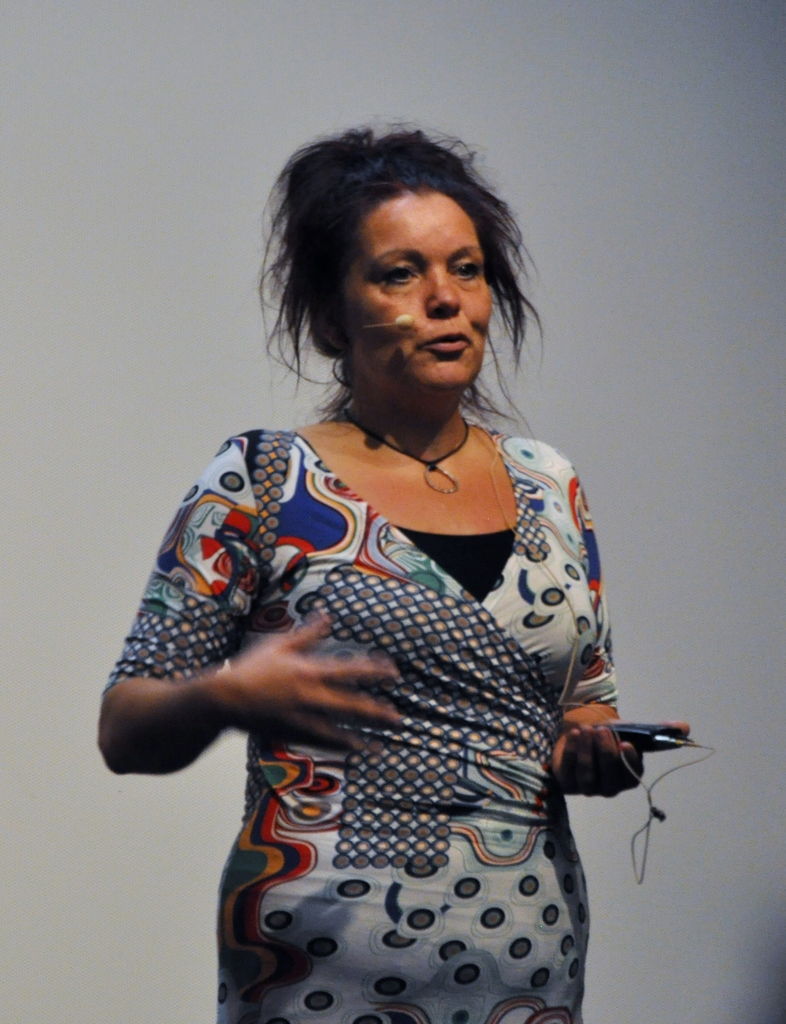Human_hand: (179, 618, 419, 762), (551, 717, 696, 801)
